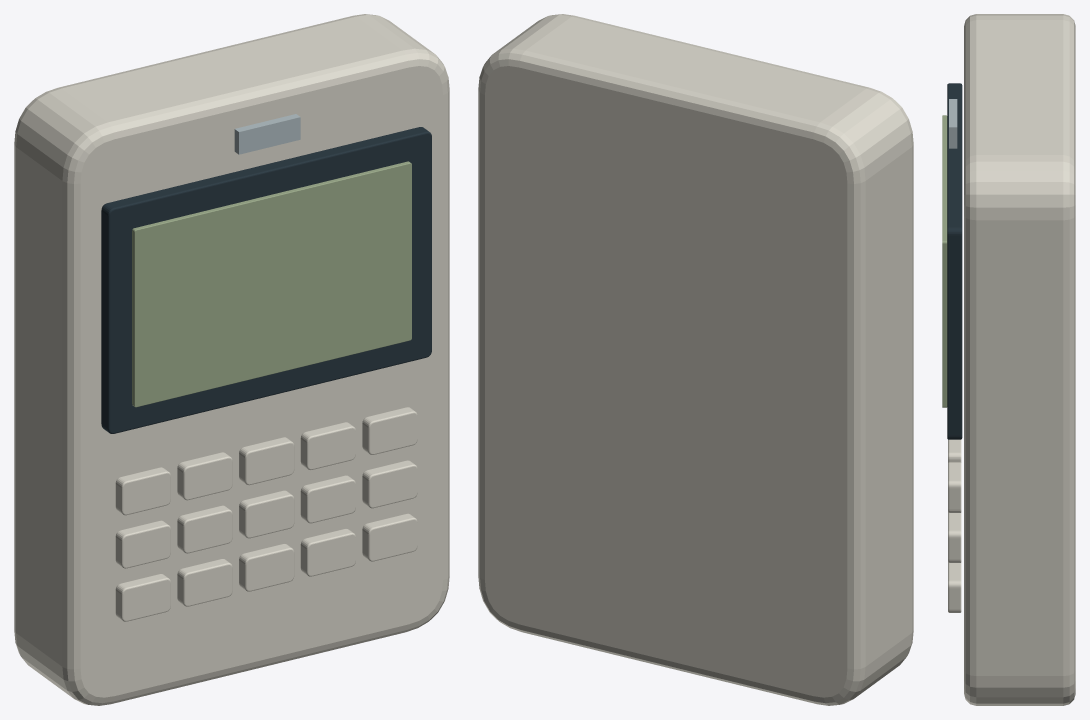
Rendered from old-phone-qwerty.glb.
3 views of the same model, side by side, from view 1: azimuth 30°, elevation 25°; view 2: azimuth 150°, elevation 25°; view 3: azimuth 270°, elevation 25° (orthographic). The views are drawn at different scales.
Visible parts, largest first — view 1: old-phone-qwerty; view 2: old-phone-qwerty; view 3: old-phone-qwerty.
Boxes of the visible parts, <box> form: old-phone-qwerty: <box>14,14,449,705</box>; old-phone-qwerty: <box>478,14,913,705</box>; old-phone-qwerty: <box>942,14,1075,705</box>.
Bounding box in the file's own units: 0.25 × 0.36 × 0.08.
